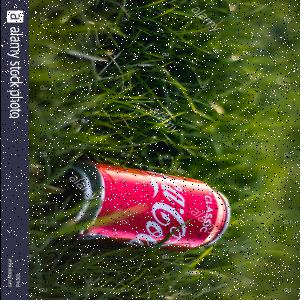Can: (47, 161, 233, 253)
